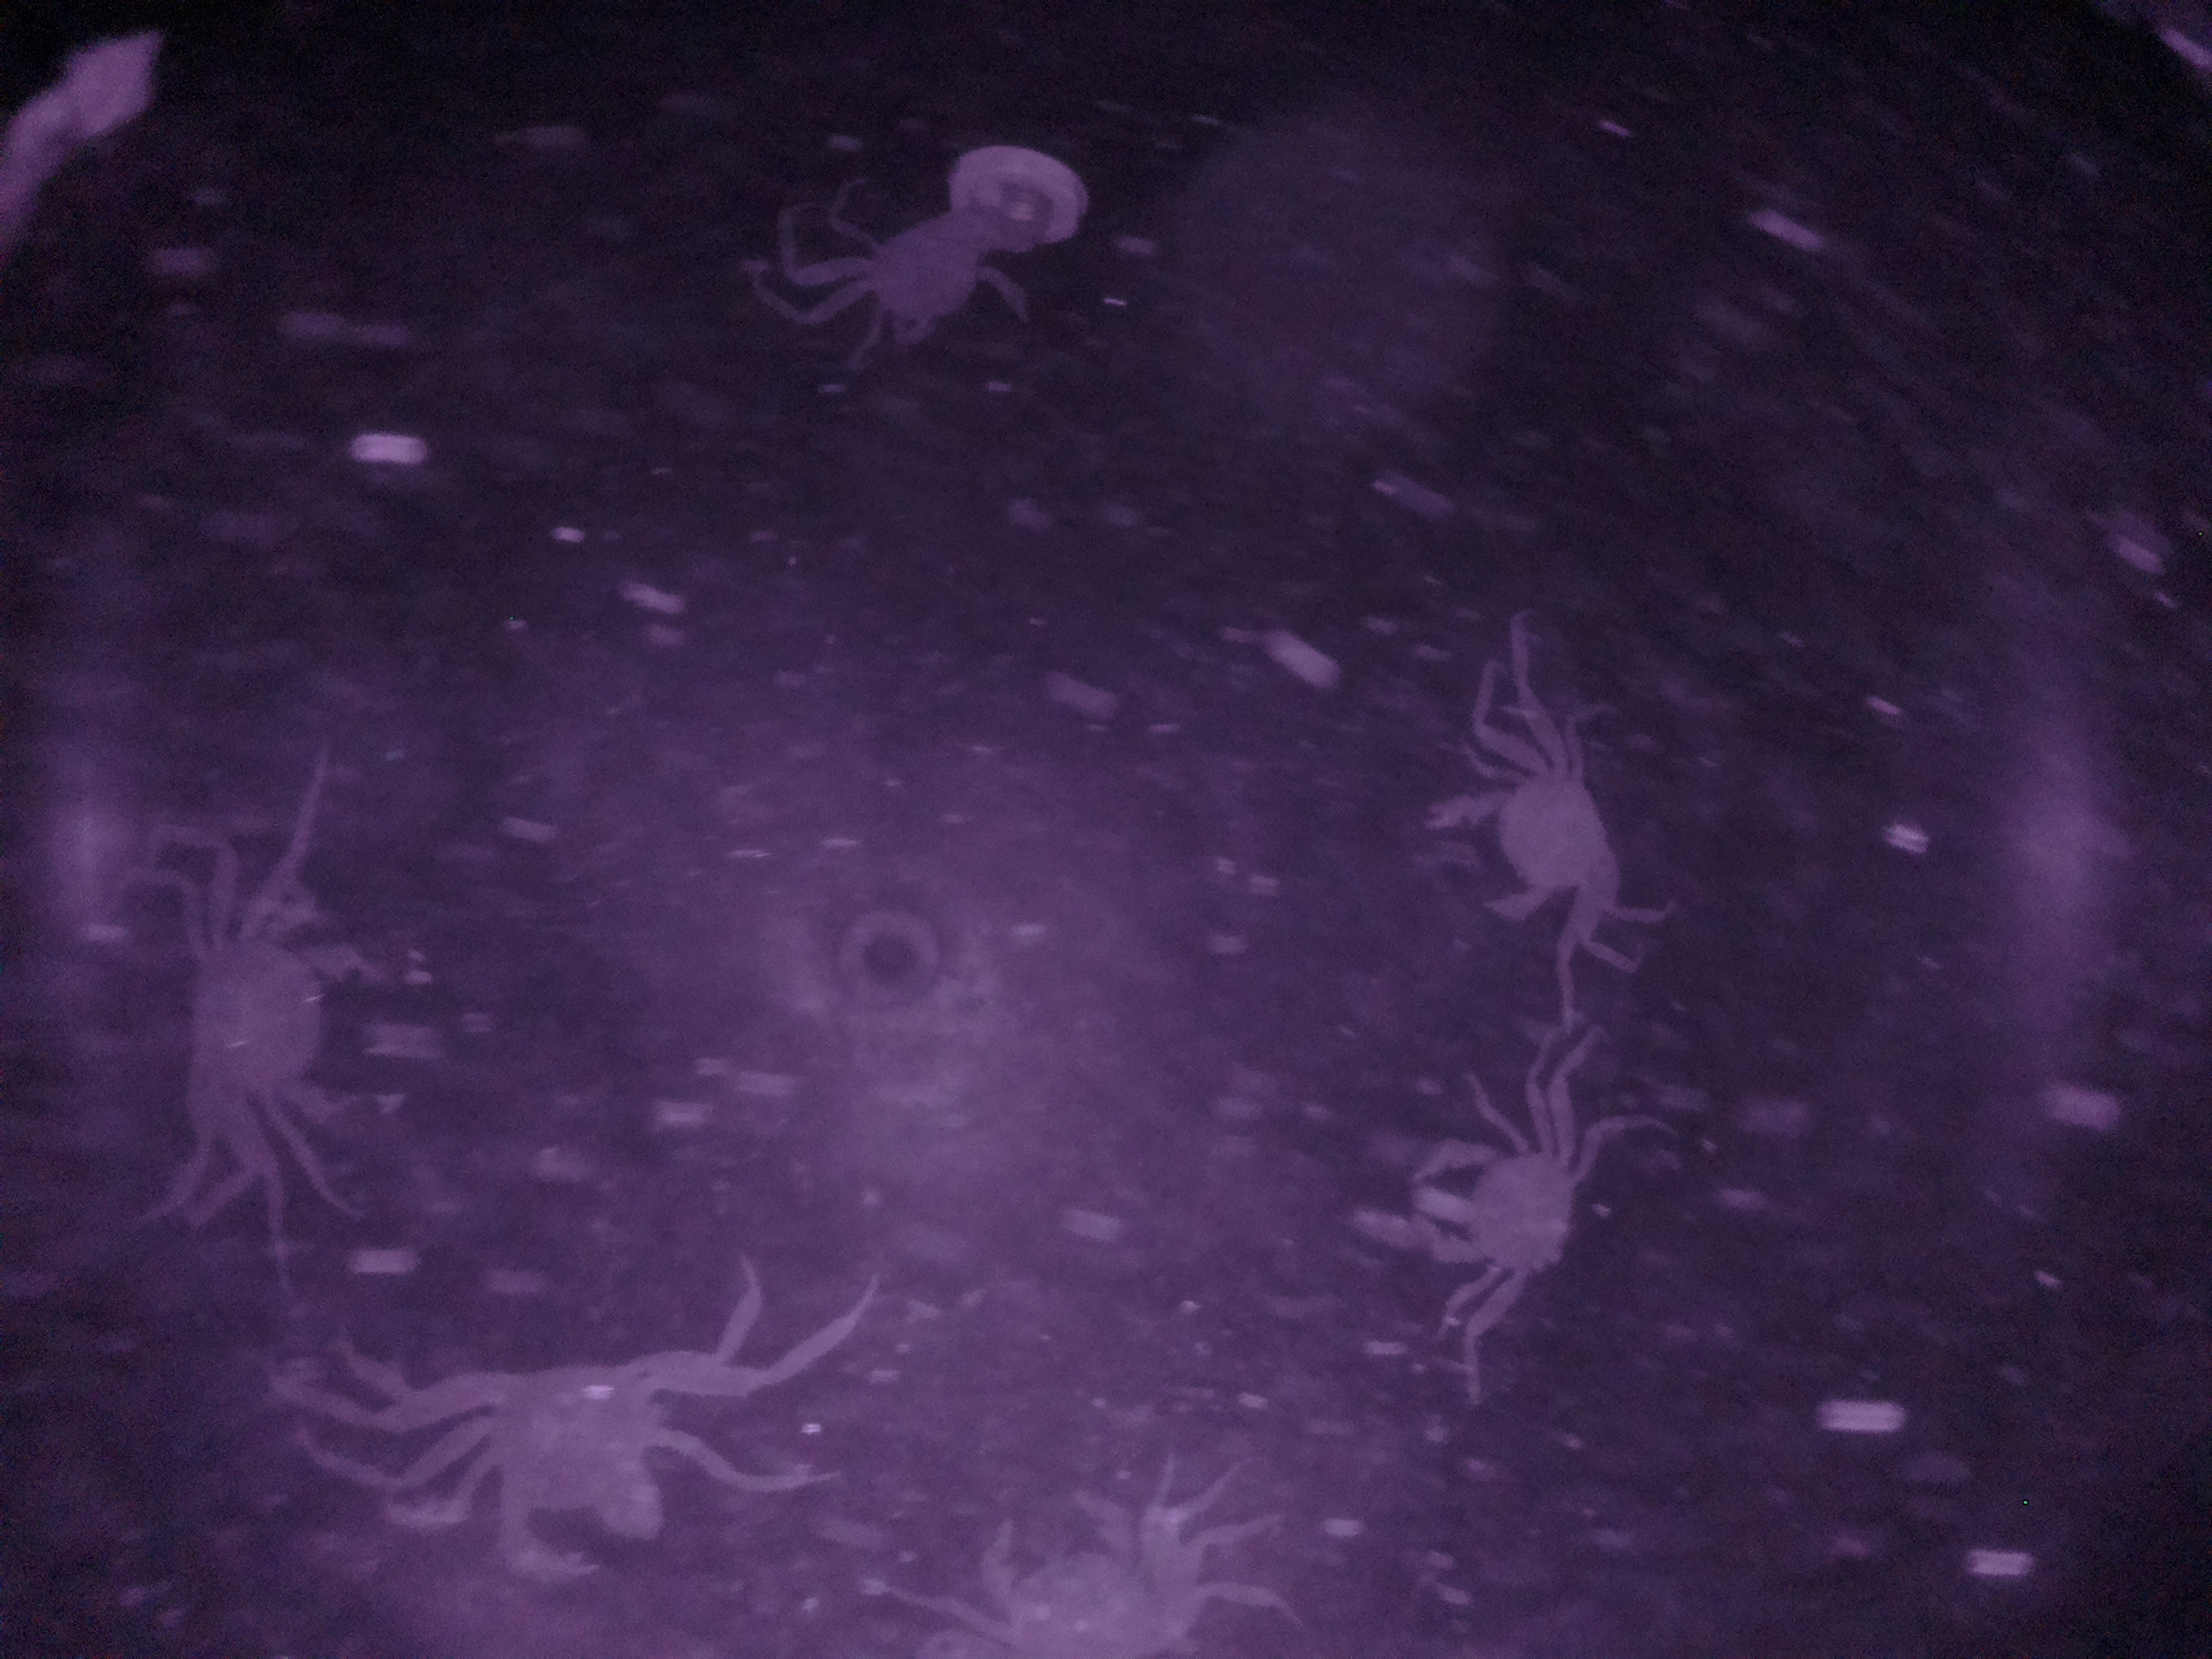Crab: (158, 894, 432, 1185), (437, 1328, 723, 1598), (1388, 1077, 1609, 1331), (1416, 720, 1637, 962)
